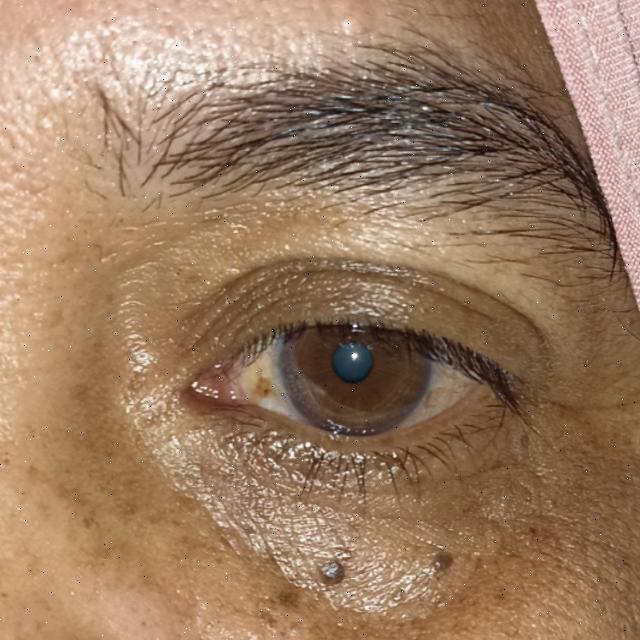Cataract: (280, 284, 430, 440)
